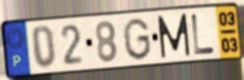0: (30, 24, 59, 71)
2: (60, 22, 85, 67)
8: (94, 19, 119, 64)
G: (121, 16, 153, 62)
L: (190, 12, 216, 57)
M: (155, 12, 192, 60)
